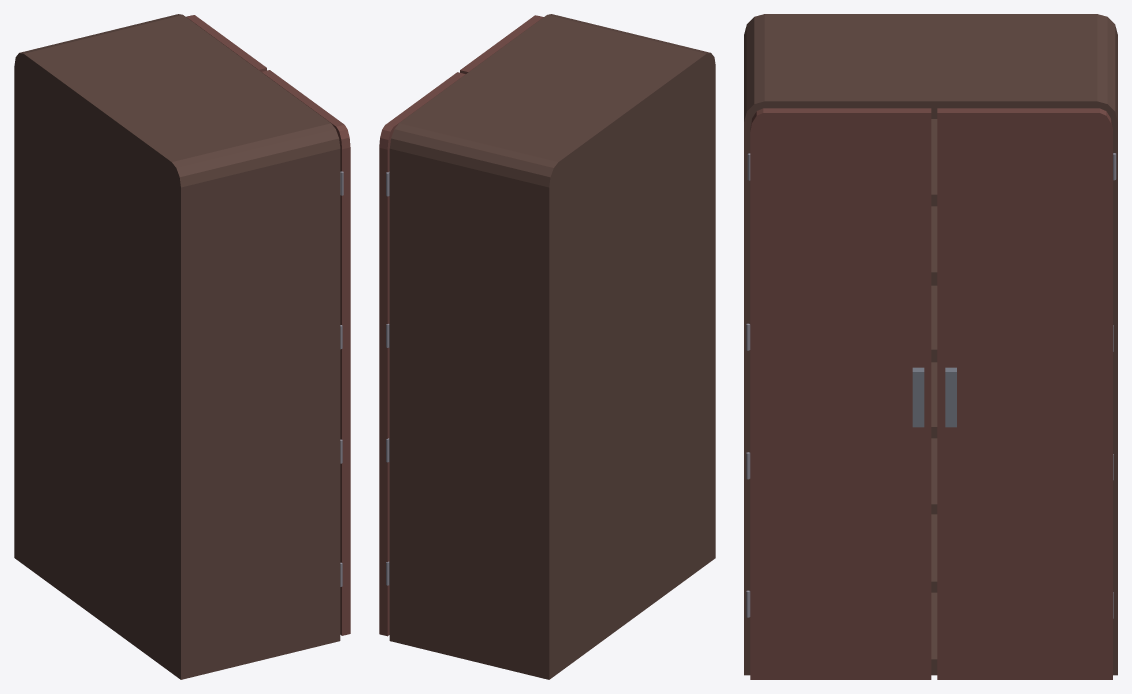
File: Armario.fbx
3 renders of one model, left to right at view 1: azimuth 30°, elevation 25°; view 2: azimuth 150°, elevation 25°; view 3: azimuth 270°, elevation 25°, orthographic. The views are drawn at different scales.
Parts seen in each view (by area): view 1: Cube, Plane; view 2: Cube, Plane; view 3: Plane, Cube.
Part boxes in pixels (x1,y1,x2,y2): Cube: (14,14,340,679); Plane: (186,15,350,635); Cube: (389,14,715,679); Plane: (379,15,543,636); Plane: (750,108,1112,679); Cube: (744,14,1117,675).
Bounding box in the file's own units: 965 × 2617 × 1545.
